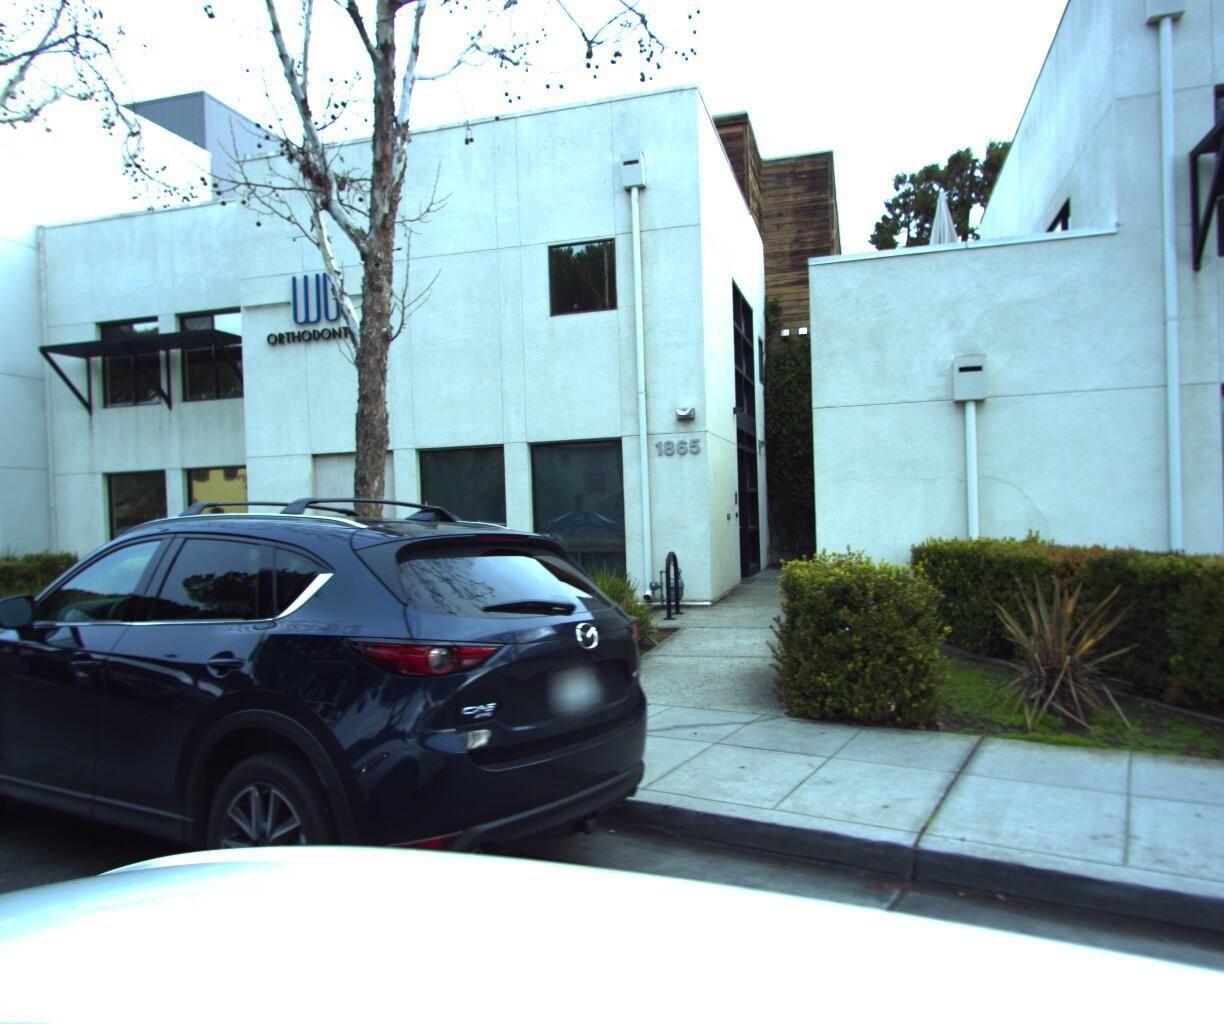car: (0, 473, 717, 1024), (0, 541, 69, 779)
